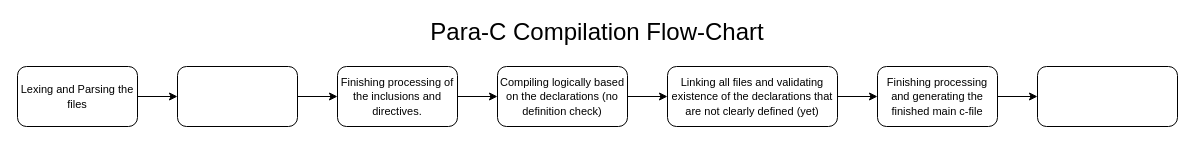
Image size: 1195x144. Some labels were removed from this diagram. Each missing label, with the centre of its shape:
"Generating the header for the c-file based on the .parah headers" goes at point (1107, 96).
"Pre-Processing the files and processing the directives" goes at point (237, 96).
